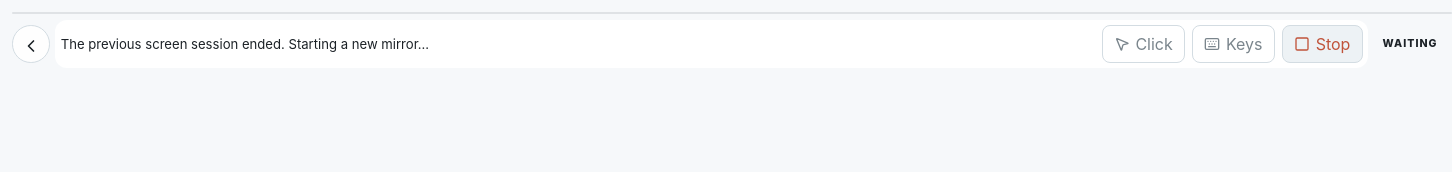
Relay screen renewal › cancels a queued fresh recovery start when the user presses Stop
The width and height of the screenshot is (1452, 172).
Click the button "Stop".
click(1322, 44)  # box [1282,25,1363,63]
Wait 900000 ms
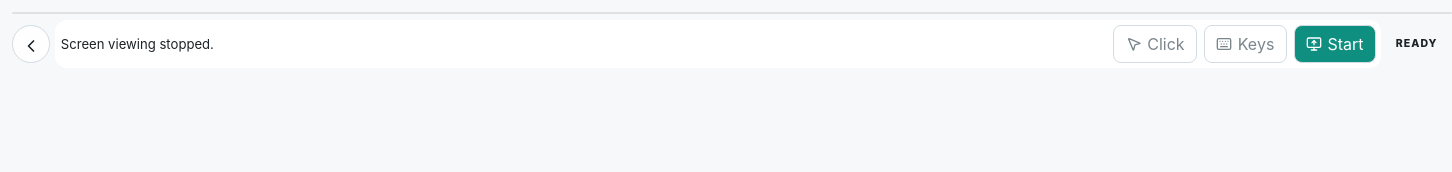
Result: the button "Start" is shown at [1294,25,1376,63]
Result: the message reads "Screen viewing stopped." at [61,36,214,52]
